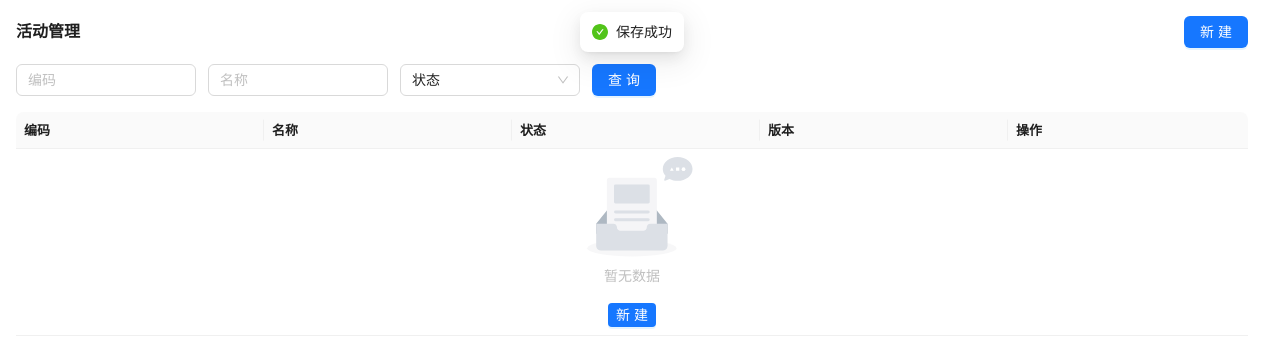
Test: ActivityManagePage list request lifecycle › ignores stale list results when a newer load wins
What coordinates should you click on to do the following:
click the button with test id "activity-query"
I would click on:
 (624, 80)
Its box is [592,64,656,96].
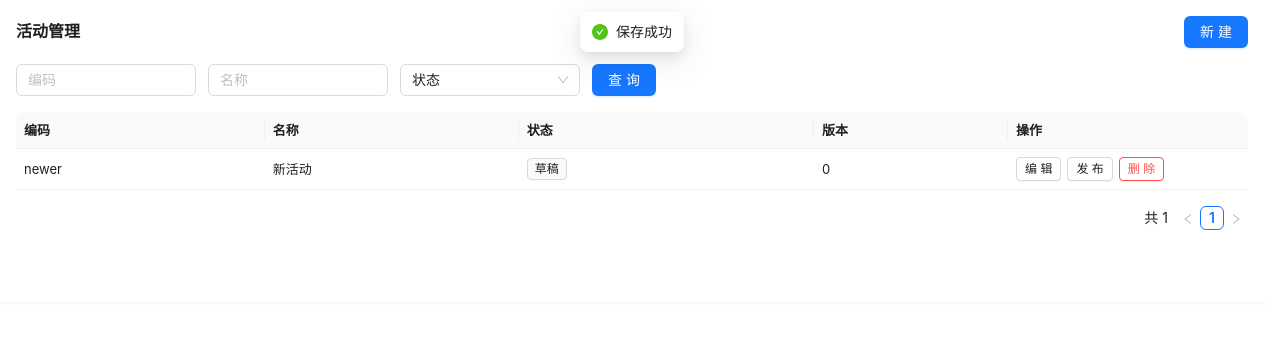
Expected: the element with test id "activity-table" shows "newer", [24,161,62,177]
